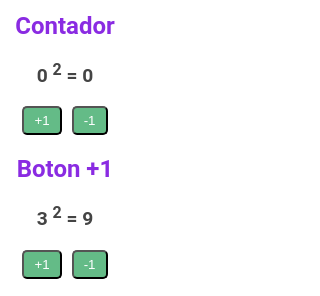
Test: Component -> MyCounter › debe incrementar el valor al pulsar +1
Click the button with test id "increment" below "= 9" at coordinates (42, 264), box [22,250,62,279]
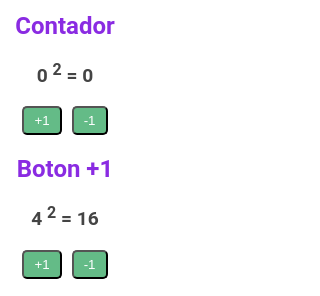
expect the text "4" is shown: met, box [31,208,47,231]
expect the text "16" is shown: met, box [56,208,99,231]
